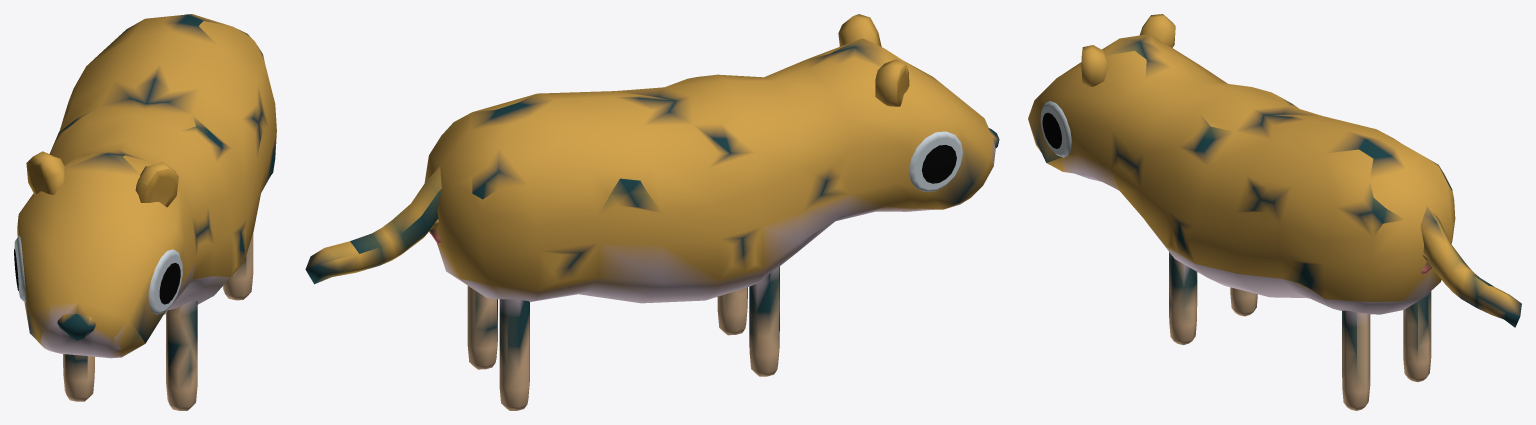
File: Cheetah.glb
3 views of the same model, side by side, from view 1: azimuth 30°, elevation 25°; view 2: azimuth 150°, elevation 25°; view 3: azimuth 270°, elevation 25° (orthographic). The views are drawn at different scales.
Parts seen in each view (by area): view 1: 25; view 2: 25; view 3: 25.
Boxes of the visible parts, x1,y1,x2,y2 form: 25: (14, 14, 276, 410); 25: (305, 14, 999, 410); 25: (1028, 14, 1521, 410).
Bounding box in the file's own units: 1.03 × 0.6564 × 1.12.
